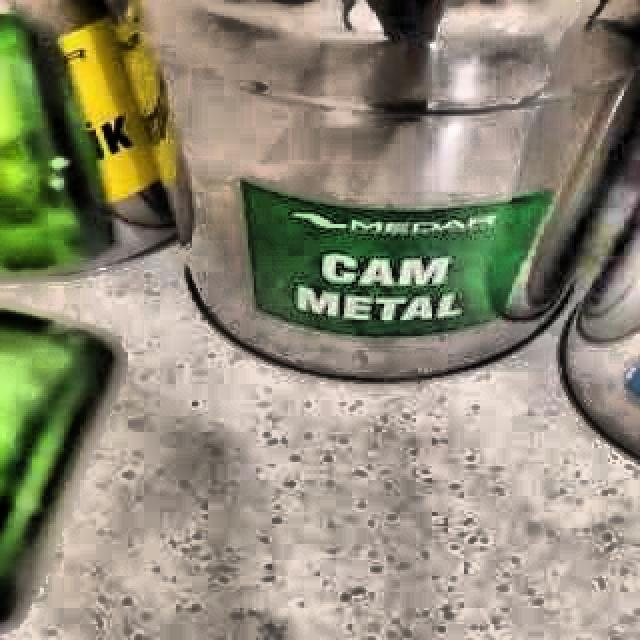glass: (0, 11, 133, 276)
